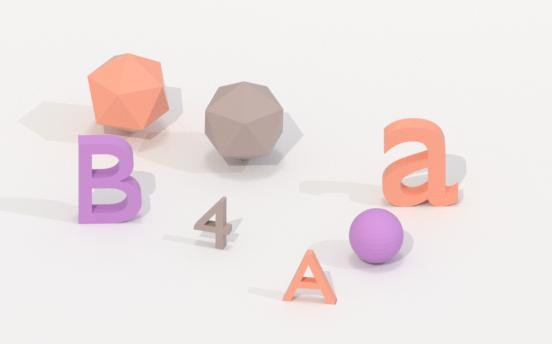4: (191, 192, 235, 253)
A-hoa: (282, 247, 339, 309)
a: (380, 113, 461, 212)
b: (74, 132, 147, 228)
cau: (347, 207, 407, 268)
dagiac: (84, 49, 172, 135), (203, 77, 286, 163)
